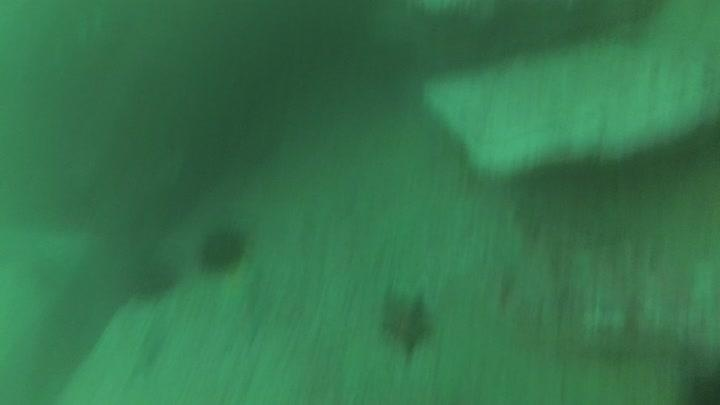echinus: (196, 222, 251, 275), (130, 256, 181, 300)
starfish: (210, 246, 270, 338), (374, 284, 438, 365)
